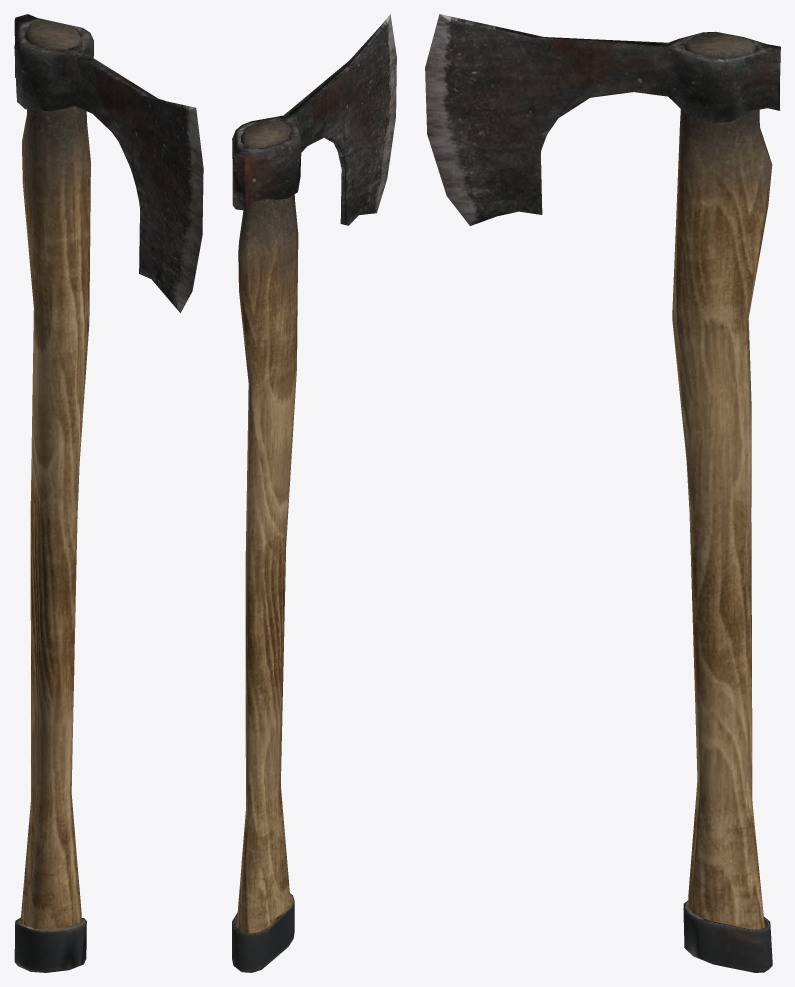
The model's file is wooden_axe.glb.
The picture shows the model from 3 angles, left to right: view 1: azimuth 30°, elevation 25°; view 2: azimuth 150°, elevation 25°; view 3: azimuth 270°, elevation 25°; orthographic projection. The views are drawn at different scales.
Visible parts, largest first — view 1: wooden_axe; view 2: wooden_axe; view 3: wooden_axe.
Part boxes in pixels (x1,y1,x2,y2): wooden_axe: (14,14,203,972); wooden_axe: (232,14,396,972); wooden_axe: (425,14,780,972).
Bounding box in the file's own units: 0.0471 × 0.6301 × 0.213.
Materials: 1 (1 with a texture image).
